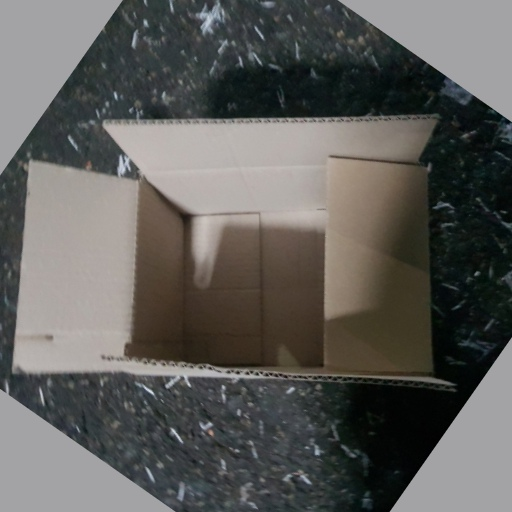Paper_0: (18, 113, 466, 404)
